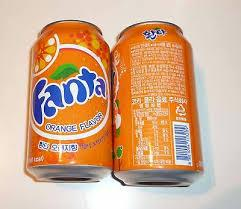metal: (112, 19, 206, 189), (25, 18, 112, 184)
